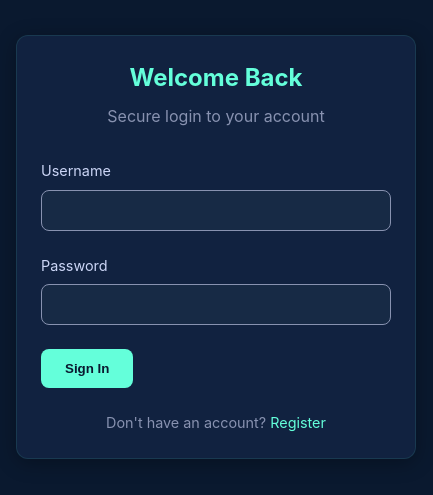
Scenario: Login.vue › displays error message on login failure
Type "wronguser" into the field. click: [216, 210]
box: [41,190,391,231]
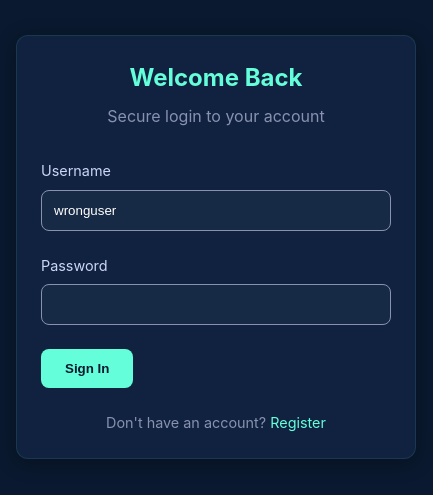
Type "wrongpass" into the password field. click: [216, 305]
box: [41,284,391,325]
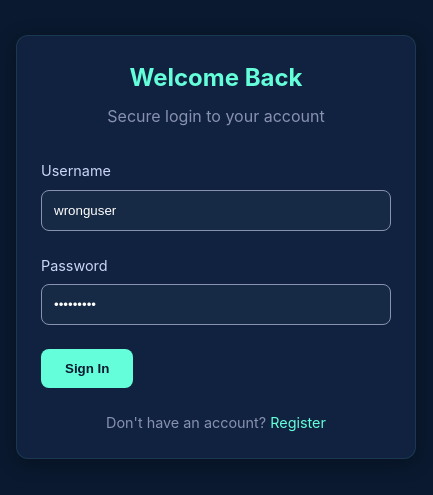
Submit the form, box [41,160,391,388]
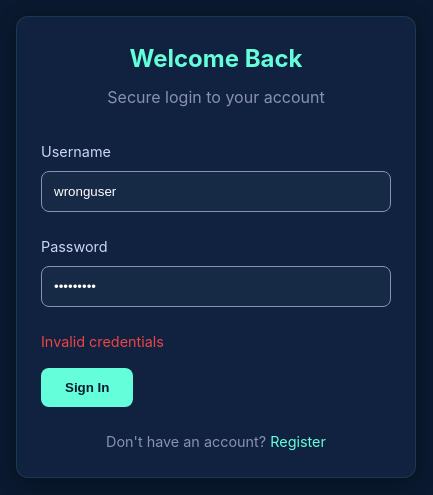
Expected: the text "Invalid credentials" is shown, [41,332,164,350]
